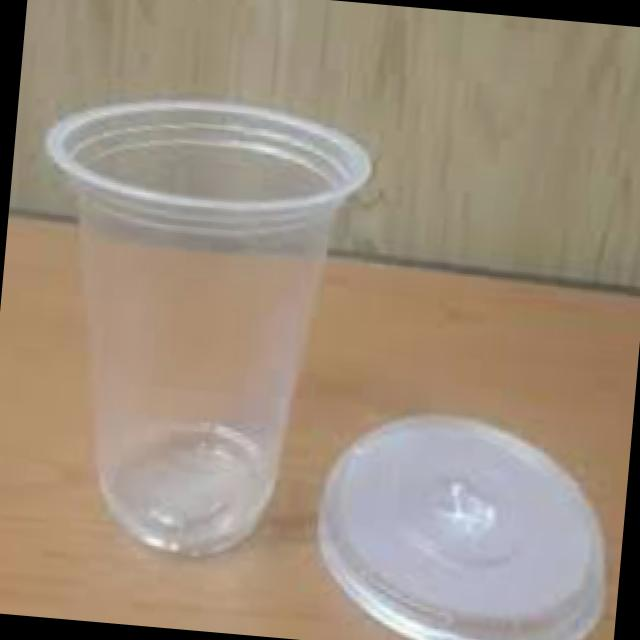GelasPlastik: (9, 81, 378, 568)
